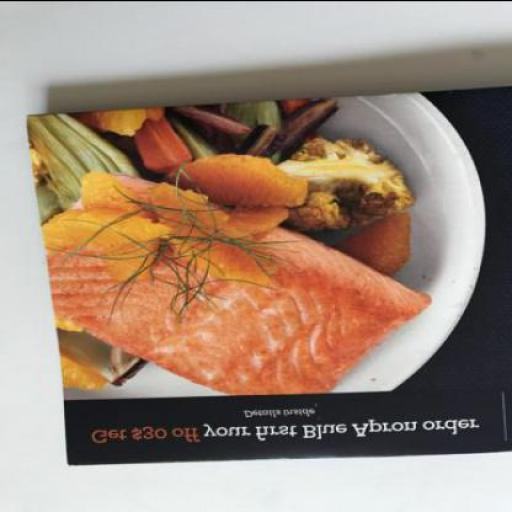paper: (28, 86, 511, 467)
